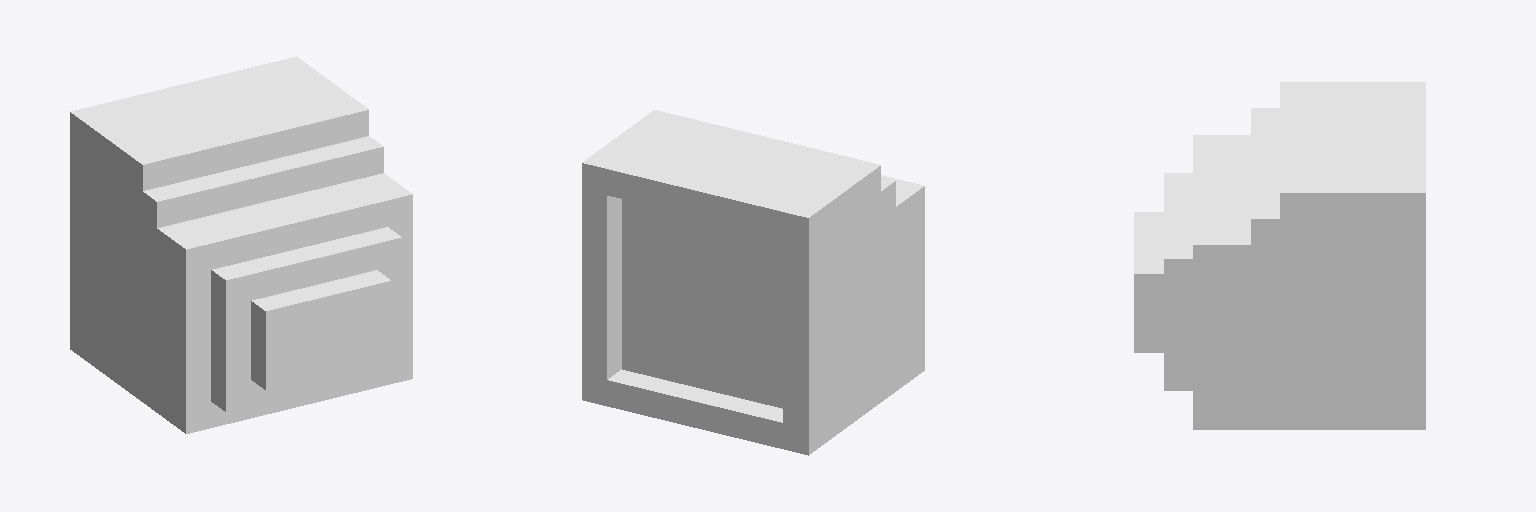
File: televi.obj
The picture shows the model from 3 angles: view 1: azimuth 30°, elevation 25°; view 2: azimuth 150°, elevation 25°; view 3: azimuth 270°, elevation 25°; orthographic projection.
Parts seen in each view (by area): view 1: televi; view 2: televi; view 3: televi.
Boxes of the visible parts, <box> form: televi: <box>70,56,412,433</box>; televi: <box>582,110,924,455</box>; televi: <box>1134,82,1425,429</box>.
Bounding box in the file's own units: 9 × 9 × 10.